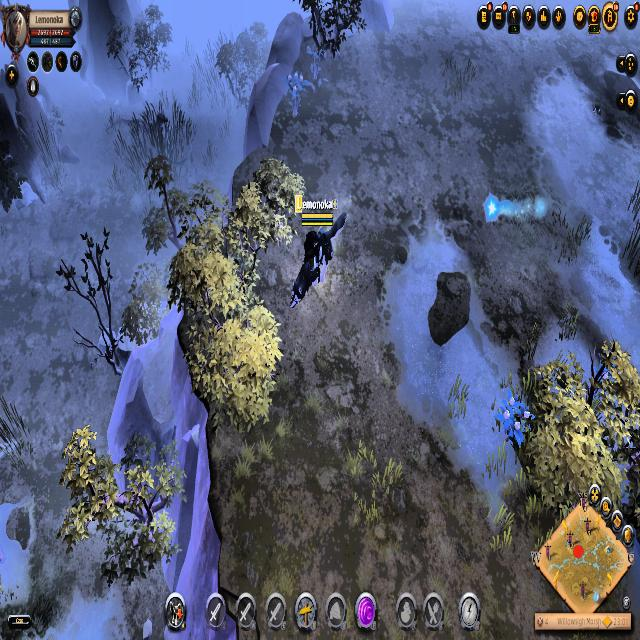fiber tier 4: (496, 388, 534, 452), (282, 69, 309, 117)
